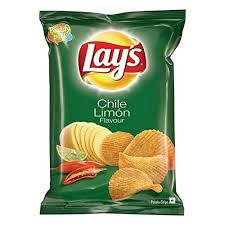lays-med: (42, 10, 184, 213)
